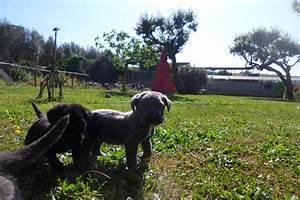dog: (81, 88, 172, 173)
